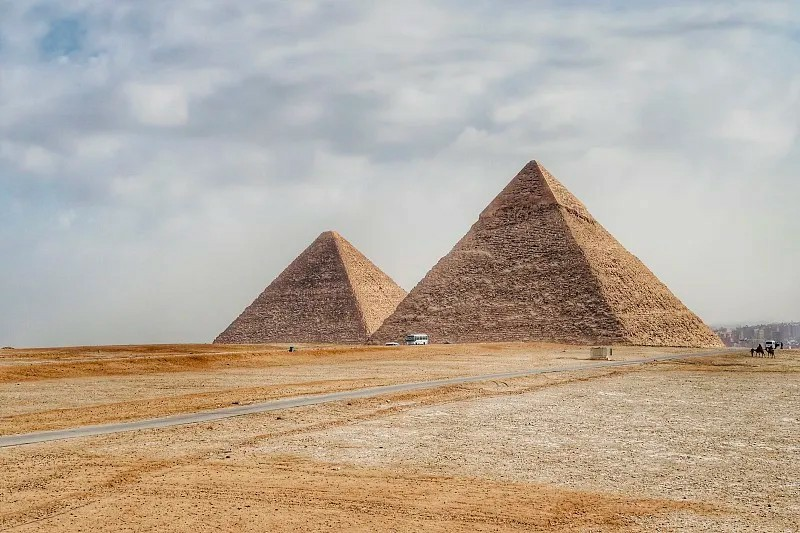Pyramid: (363, 160, 730, 351), (211, 231, 410, 348)
